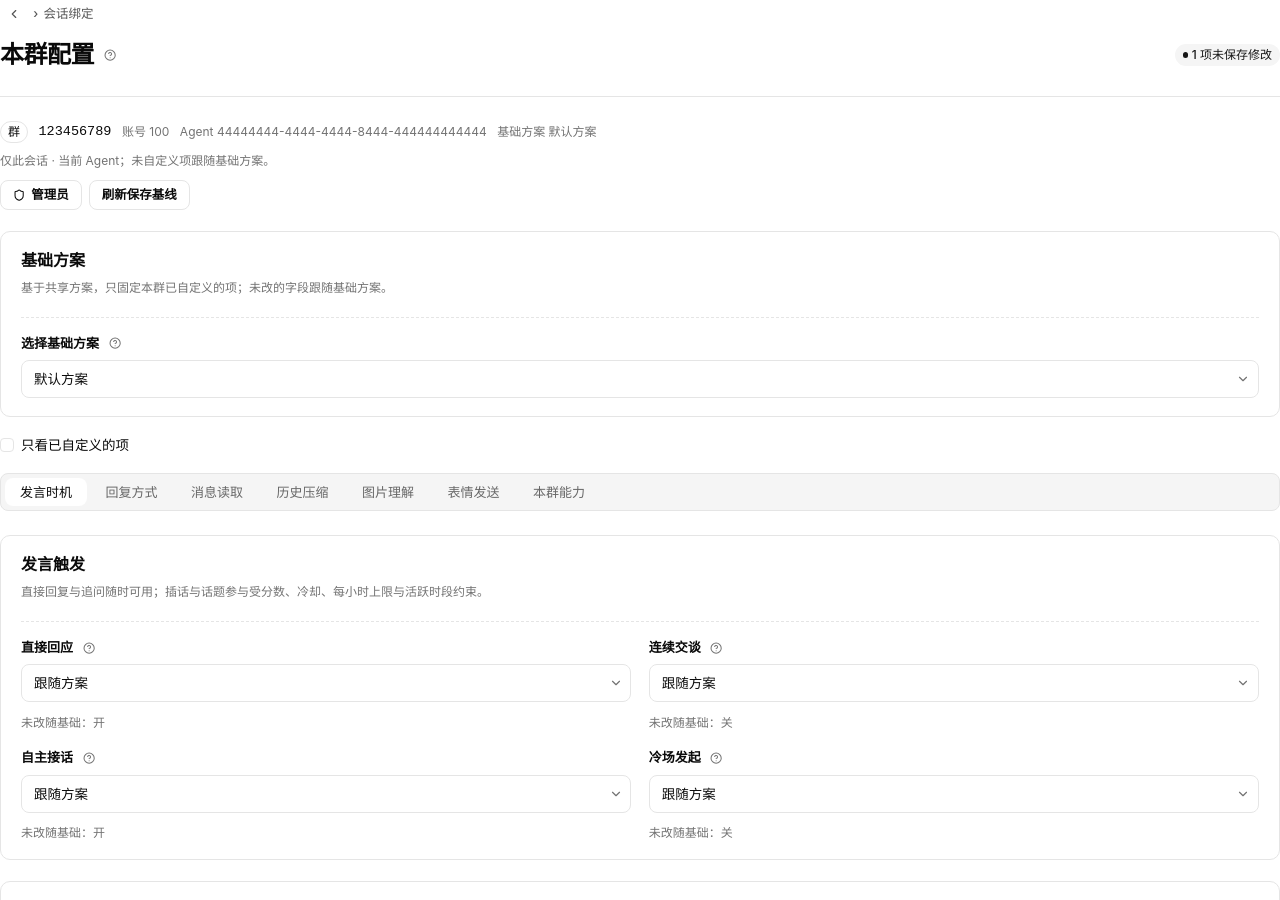
Test: 换基础方案先预览全部当前钉住与新方案值；选 keep 后整页改用目标基线，source 仍是 CAS 原基线
Select "新方案" in the dropdown labelled "选择基础方案" at (640,379), box [21, 360, 1259, 398]
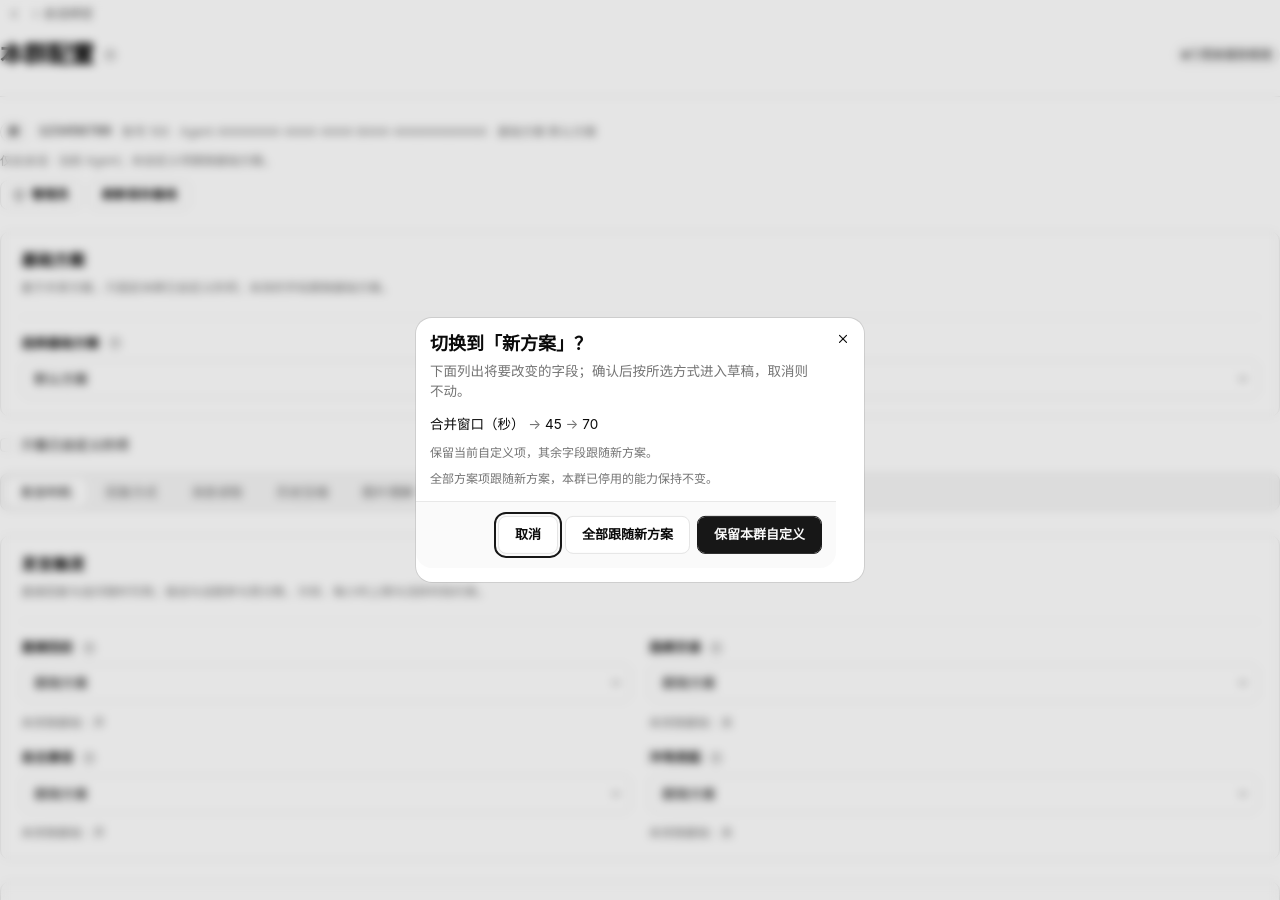
Now the list item "合并窗口（秒） → 45 → 70" is shown, box [430, 416, 598, 432]
Click the button "保留本群自定义" at (760,535), box [697, 516, 822, 554]
(page scrolled)
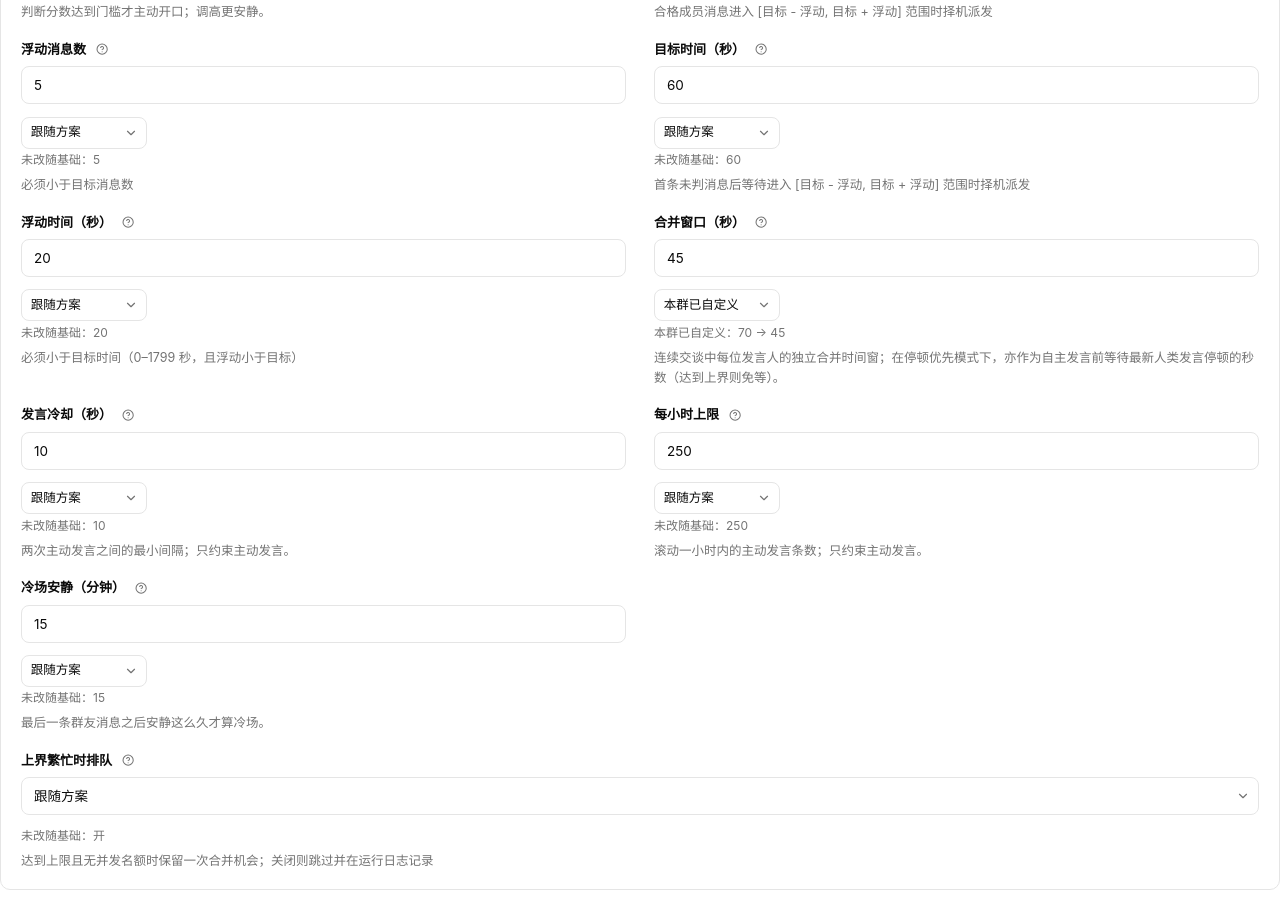
Expected: the number field labelled "合并窗口（秒）" holds "45", [654, 239, 1259, 277]
Now the dialog is gone
Now the number field labelled "每小时上限" holds "250", box [654, 432, 1259, 470]
